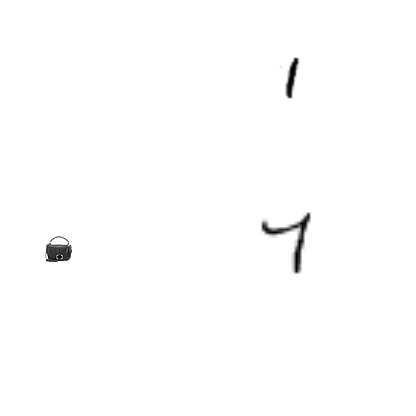1: (262, 48, 318, 104)
7: (250, 195, 334, 279)
Bag: (45, 235, 73, 263)
